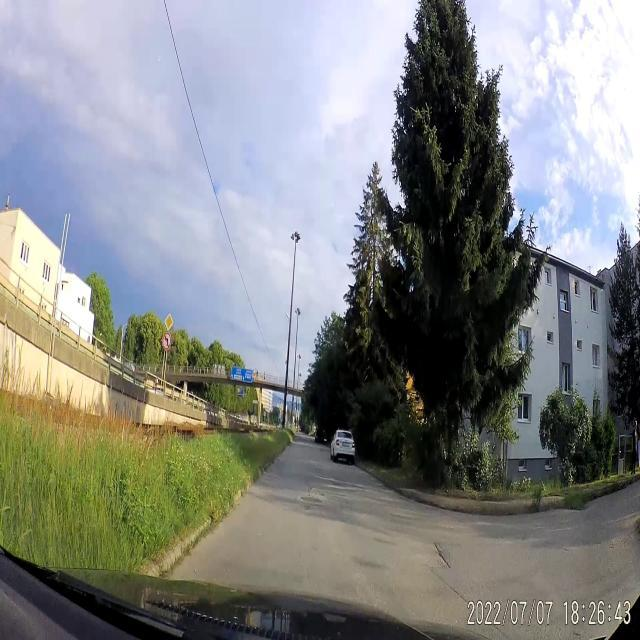Manhole: (301, 492, 322, 506)
Pothole: (431, 535, 455, 573)
